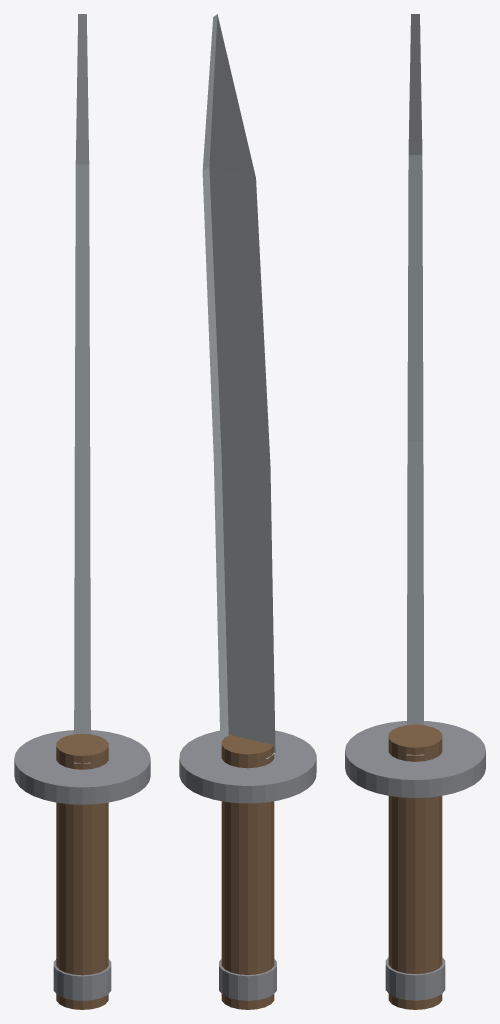
File: katana.glb
3 views of the same model, side by side, from view 1: azimuth 90°, elevation 25°; view 2: azimuth 150°, elevation 25°; view 3: azimuth 270°, elevation 25° (orthographic). The views are drawn at different scales.
Visible parts, largest first — view 1: sword_0_2, sword_0_0, sword_0_1, sword_0_3; view 2: sword_0_0, sword_0_2, sword_0_1, sword_0_3; view 3: sword_0_2, sword_0_0, sword_0_1, sword_0_3.
Part boxes in pixels (<box>): sword_0_2: <box>56,733,108,1009</box>; sword_0_0: <box>74,14,90,763</box>; sword_0_1: <box>14,730,150,804</box>; sword_0_3: <box>53,959,111,1000</box>; sword_0_0: <box>202,14,275,758</box>; sword_0_2: <box>221,735,274,1009</box>; sword_0_1: <box>179,730,316,803</box>; sword_0_3: <box>219,959,276,1000</box>; sword_0_2: <box>388,724,442,1009</box>; sword_0_0: <box>407,14,423,755</box>; sword_0_1: <box>345,721,485,797</box>; sword_0_3: <box>385,957,445,1000</box>.
Bounding box in the file's own units: 0.5681 × 4.45 × 0.5681.
